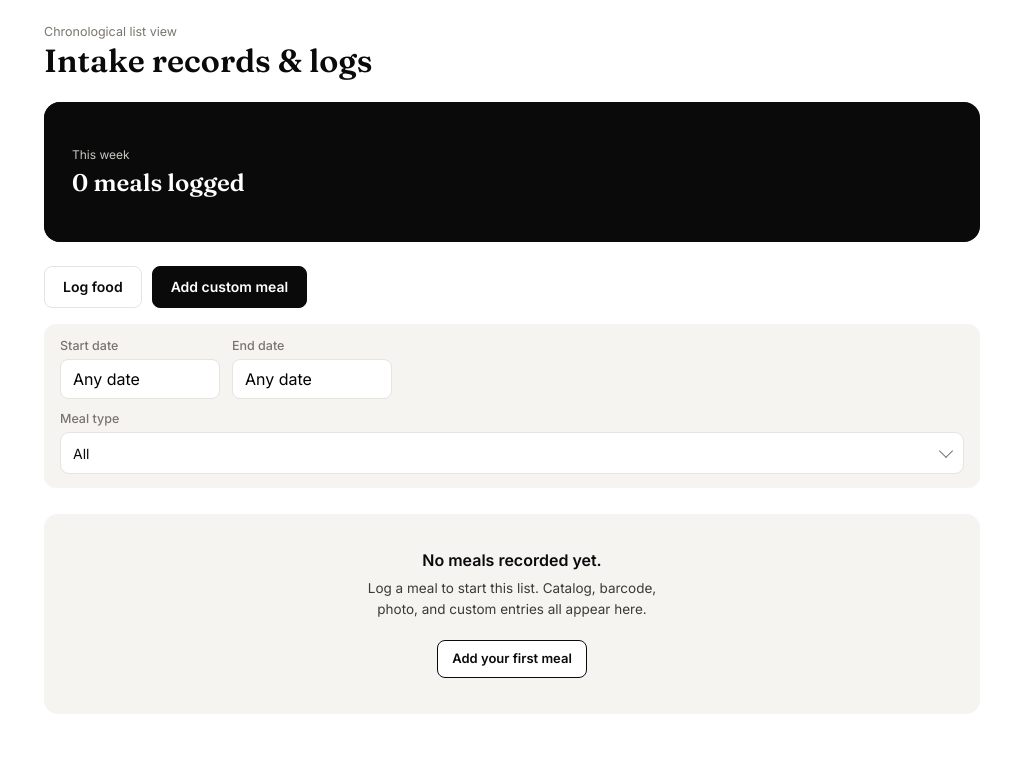
Test case: MealsPage › validates the add meal form
Click the button "Add your first meal": click(512, 659) [437,640,587,678]
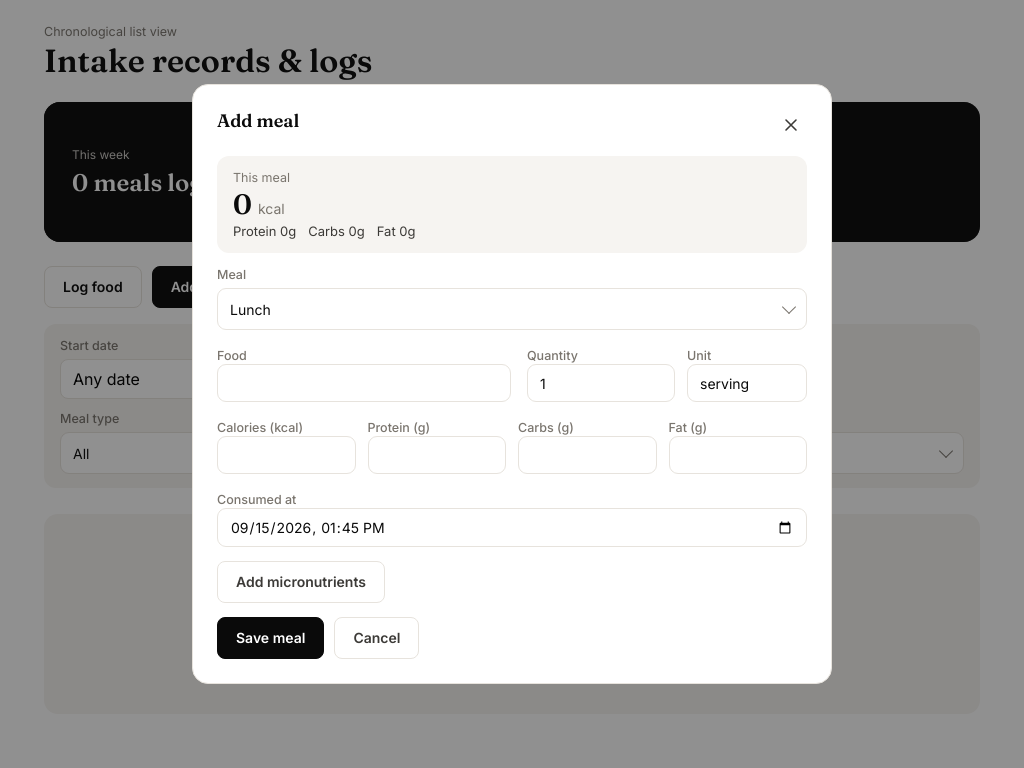
Click the button "Save meal": click(271, 638) [217,617,324,659]
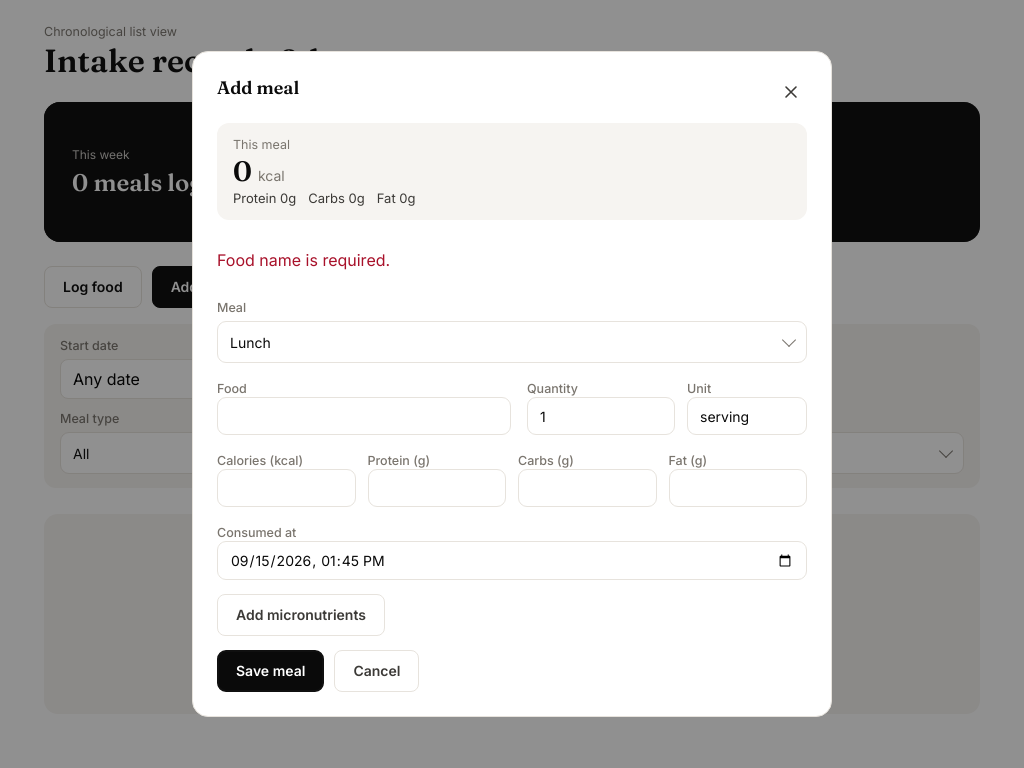
Now the message shows "Food name is required", box [217,250,390,270]
